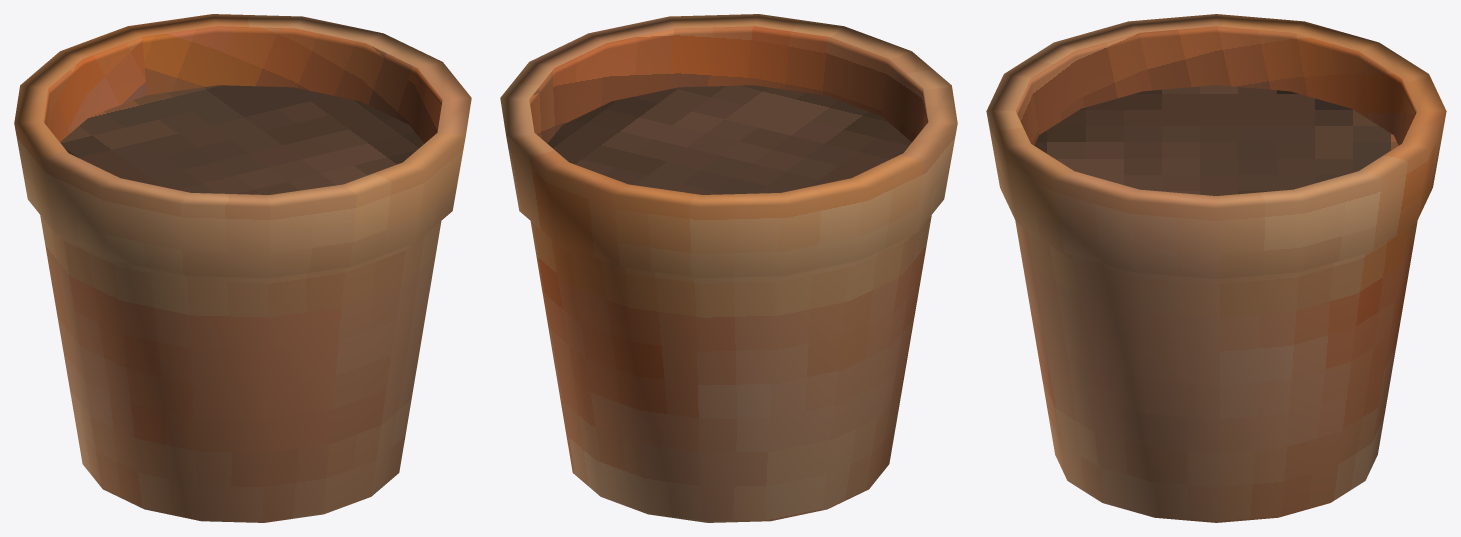
The model's file is objects_un_t01flowerpots05.gltf.
3 views of the same model, side by side, from view 1: azimuth 30°, elevation 25°; view 2: azimuth 150°, elevation 25°; view 3: azimuth 270°, elevation 25° (orthographic).
Visible parts, largest first — view 1: objects_un_t01flowerpots05_mesh_shape:objects_un_t01flowerpo; view 2: objects_un_t01flowerpots05_mesh_shape:objects_un_t01flowerpo; view 3: objects_un_t01flowerpots05_mesh_shape:objects_un_t01flowerpo.
Part boxes in pixels (x1,y1,x2,y2): objects_un_t01flowerpots05_mesh_shape:objects_un_t01flowerpo: (14, 14, 471, 522); objects_un_t01flowerpots05_mesh_shape:objects_un_t01flowerpo: (500, 14, 957, 522); objects_un_t01flowerpots05_mesh_shape:objects_un_t01flowerpo: (986, 14, 1446, 522).
Size of what is drawn, in the model's own units: 0.2792 by 0.23 by 0.2792.
Materials: 1 (1 with a texture image).
